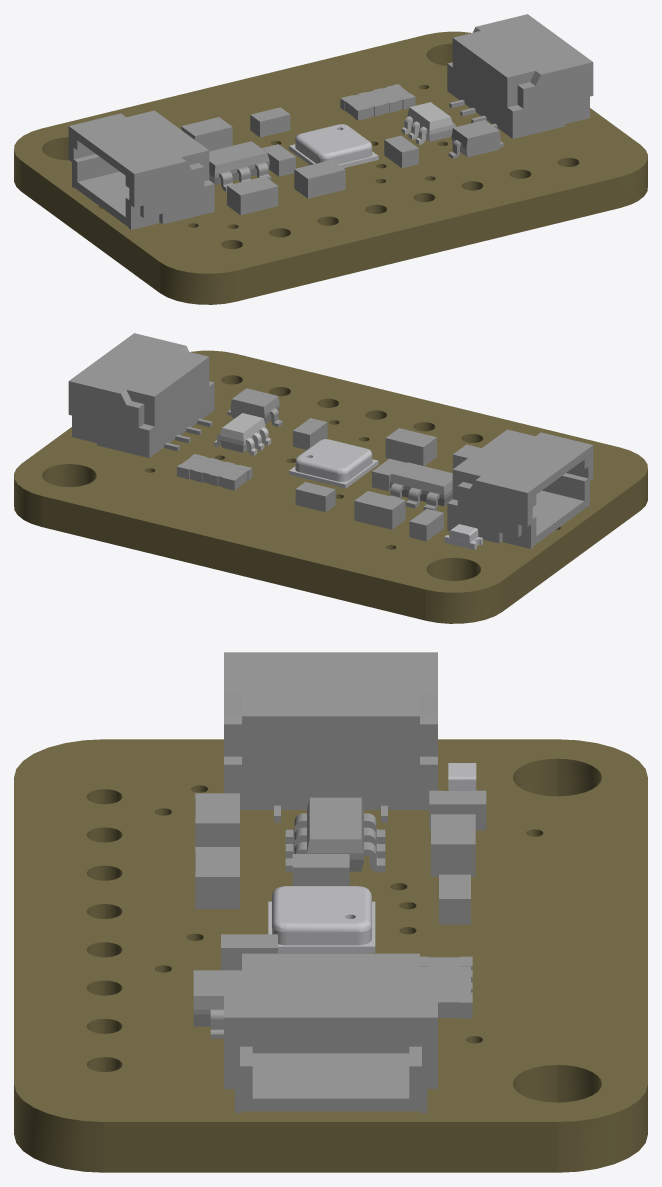
File: ada-6431.glb
3 views of the same model, one above another, from view 1: azimuth 30°, elevation 25°; view 2: azimuth 150°, elevation 25°; view 3: azimuth 270°, elevation 25° (orthographic). The views are drawn at different scales.
Visible parts, largest first — view 1: 0.16666666666666666_0.16666666666666666_0.08333333333333333_, 0.3333333333333333_0.3333333333333333_0.3333333333333333_0, 0.5833333333333334_0.5833333333333334_0.5833333333333334_0.8, 0.5_0.5_0.5_0.85; view 2: 0.16666666666666666_0.16666666666666666_0.08333333333333333_, 0.3333333333333333_0.3333333333333333_0.3333333333333333_0, 0.5833333333333334_0.5833333333333334_0.5833333333333334_0.8, 0.5_0.5_0.5_0.85; view 3: 0.16666666666666666_0.16666666666666666_0.08333333333333333_, 0.3333333333333333_0.3333333333333333_0.3333333333333333_0, 0.5833333333333334_0.5833333333333334_0.5833333333333334_0.8.
Boxes of the visible parts, bbox=[...] form: 0.16666666666666666_0.16666666666666666_0.08333333333333333_: bbox=[14, 31, 647, 304]; 0.3333333333333333_0.3333333333333333_0.3333333333333333_0: bbox=[68, 14, 593, 229]; 0.5833333333333334_0.5833333333333334_0.5833333333333334_0.8: bbox=[289, 124, 378, 167]; 0.5_0.5_0.5_0.85: bbox=[401, 102, 456, 144]; 0.16666666666666666_0.16666666666666666_0.08333333333333333_: bbox=[14, 350, 647, 623]; 0.3333333333333333_0.3333333333333333_0.3333333333333333_0: bbox=[68, 333, 593, 548]; 0.5833333333333334_0.5833333333333334_0.5833333333333334_0.8: bbox=[289, 439, 482, 549]; 0.5_0.5_0.5_0.85: bbox=[214, 413, 271, 455]; 0.16666666666666666_0.16666666666666666_0.08333333333333333_: bbox=[14, 739, 647, 1172]; 0.3333333333333333_0.3333333333333333_0.3333333333333333_0: bbox=[193, 652, 486, 1112]; 0.5833333333333334_0.5833333333333334_0.5833333333333334_0.8: bbox=[268, 763, 476, 953].
Size of the model in its own units: 2.54 by 0.453 by 1.78.
